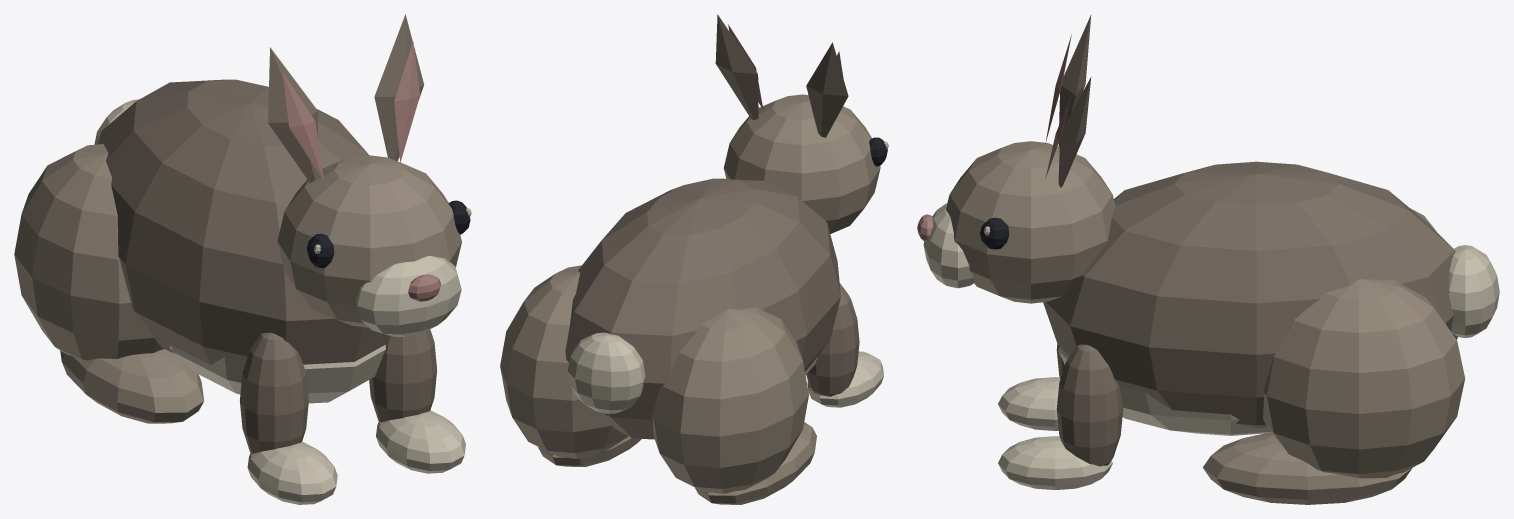
Rendered from rabbit.glb.
3 renders of one model, left to right at view 1: azimuth 30°, elevation 25°; view 2: azimuth 150°, elevation 25°; view 3: azimuth 270°, elevation 25°, orthographic. The views are drawn at different scales.
Parts seen in each view (by area): view 1: rabbit_body_mesh, rabbit_head_mesh; view 2: rabbit_body_mesh, rabbit_head_mesh; view 3: rabbit_body_mesh, rabbit_head_mesh.
Boxes of the visible parts, box(x1,y1,x2,y2) form: rabbit_body_mesh: box(14, 79, 465, 504); rabbit_head_mesh: box(268, 14, 471, 336); rabbit_body_mesh: box(500, 178, 883, 504); rabbit_head_mesh: box(715, 14, 888, 233); rabbit_body_mesh: box(998, 161, 1499, 504); rabbit_head_mesh: box(917, 14, 1115, 303).
Size of the model in its own units: 0.276 by 0.35 by 0.45.
